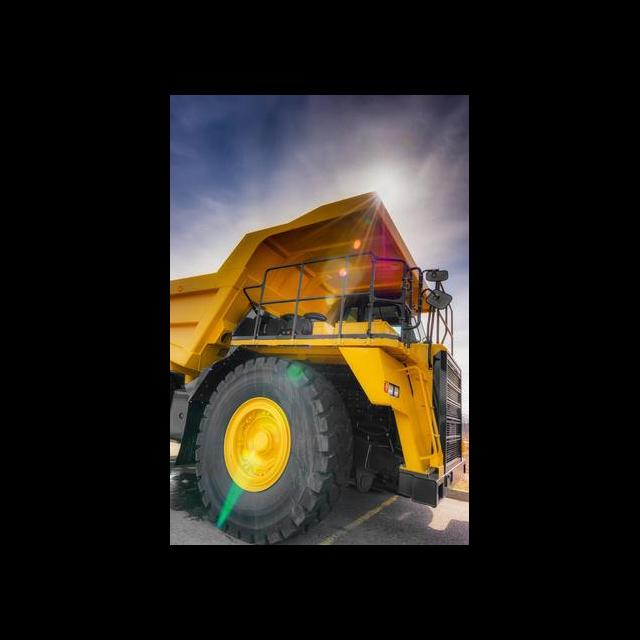dump truck: (170, 187, 468, 543)
